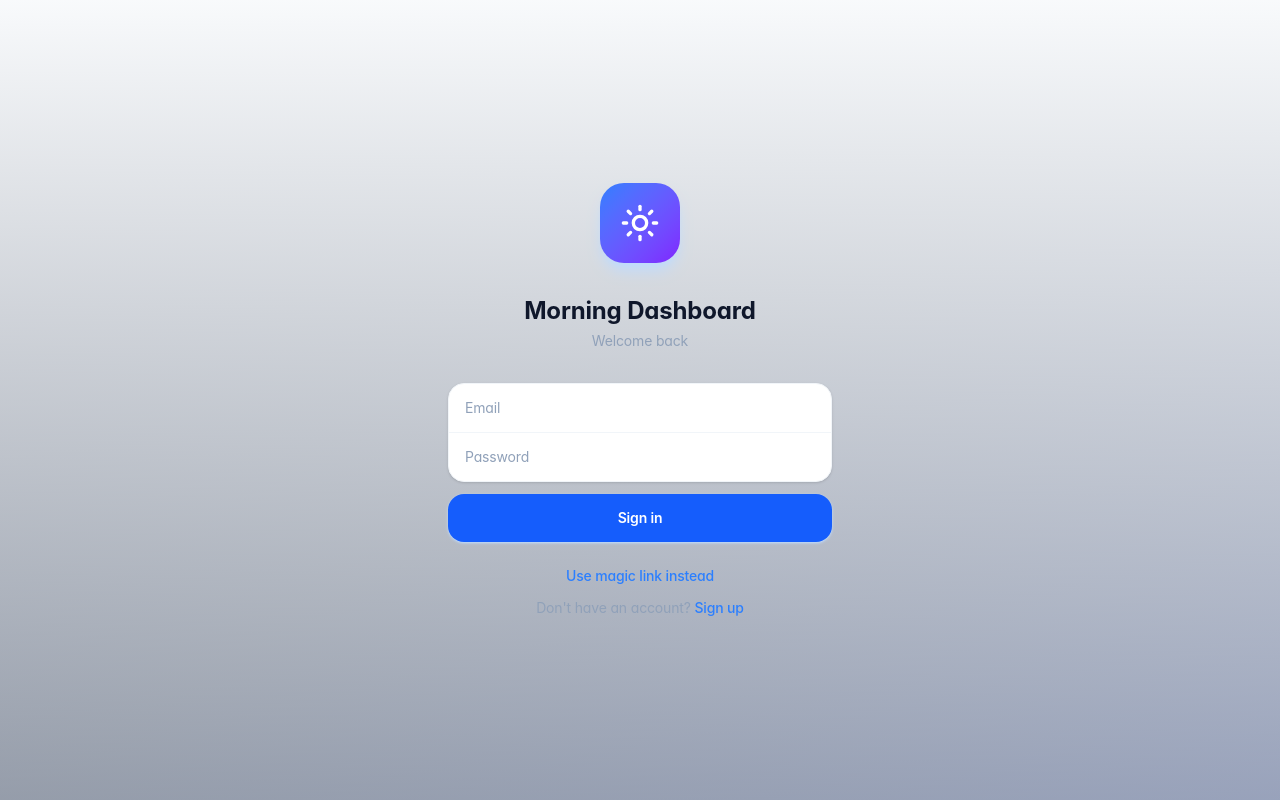
Test: Auth › switches back to login from signup mode
Click the button "Don't have an account? Sign up" at (640, 608), box [536,598,744,618]
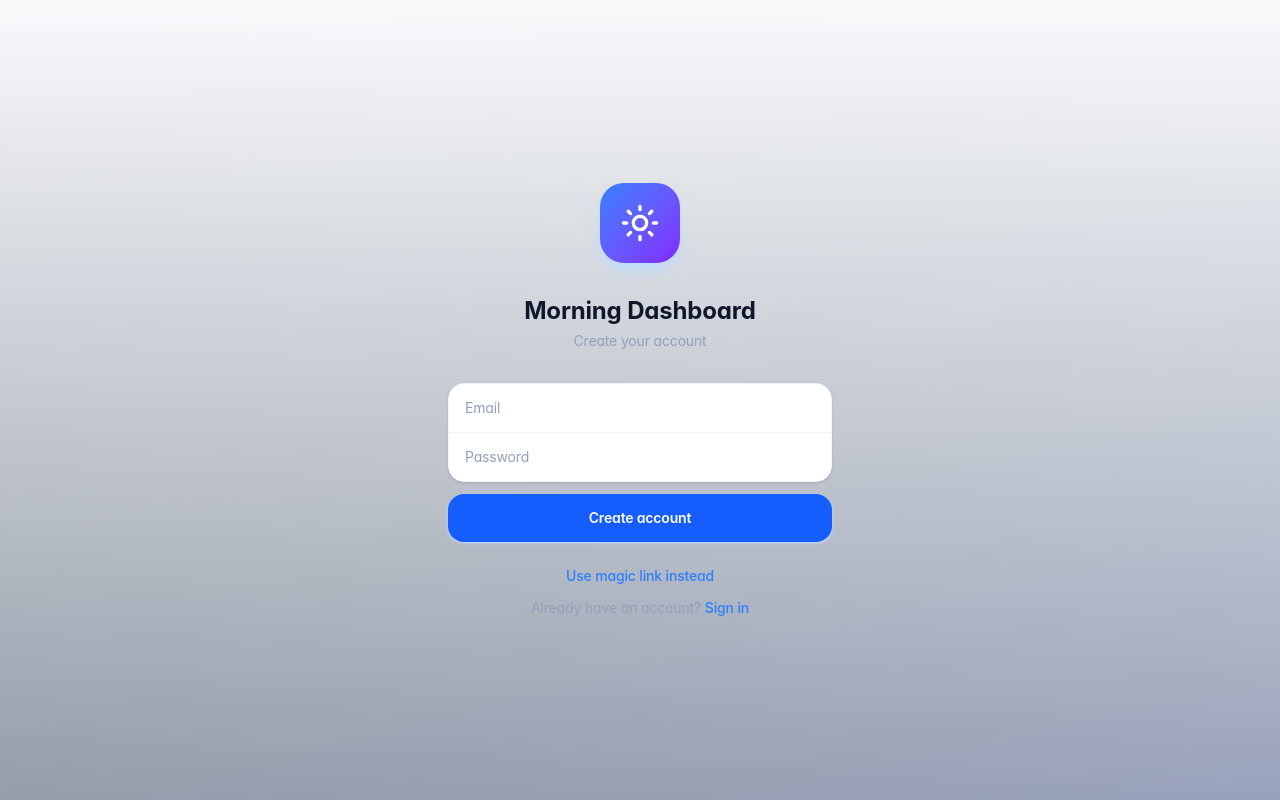
Click the button "Already have an account? Sign in" at (640, 608), box [531,598,749,618]
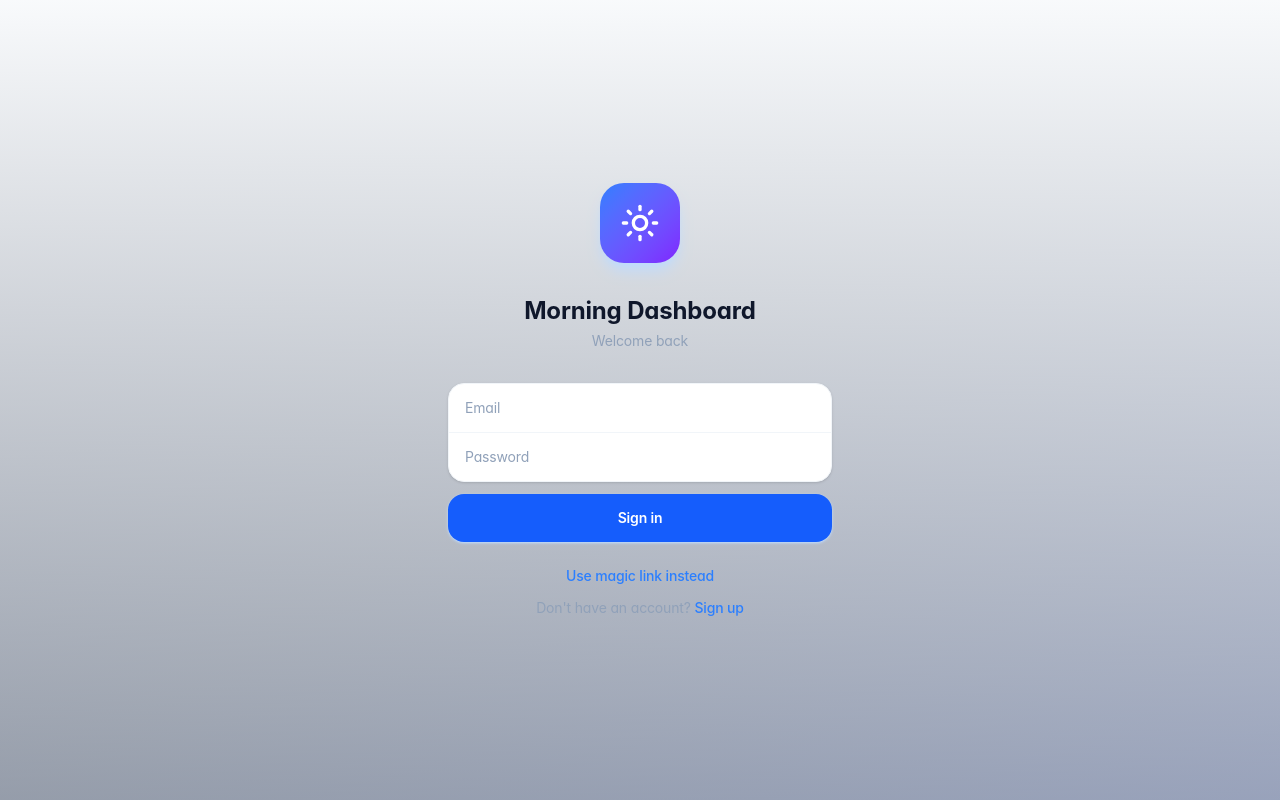
Check: the text "Welcome back" is shown, box [592,332,688,348]
